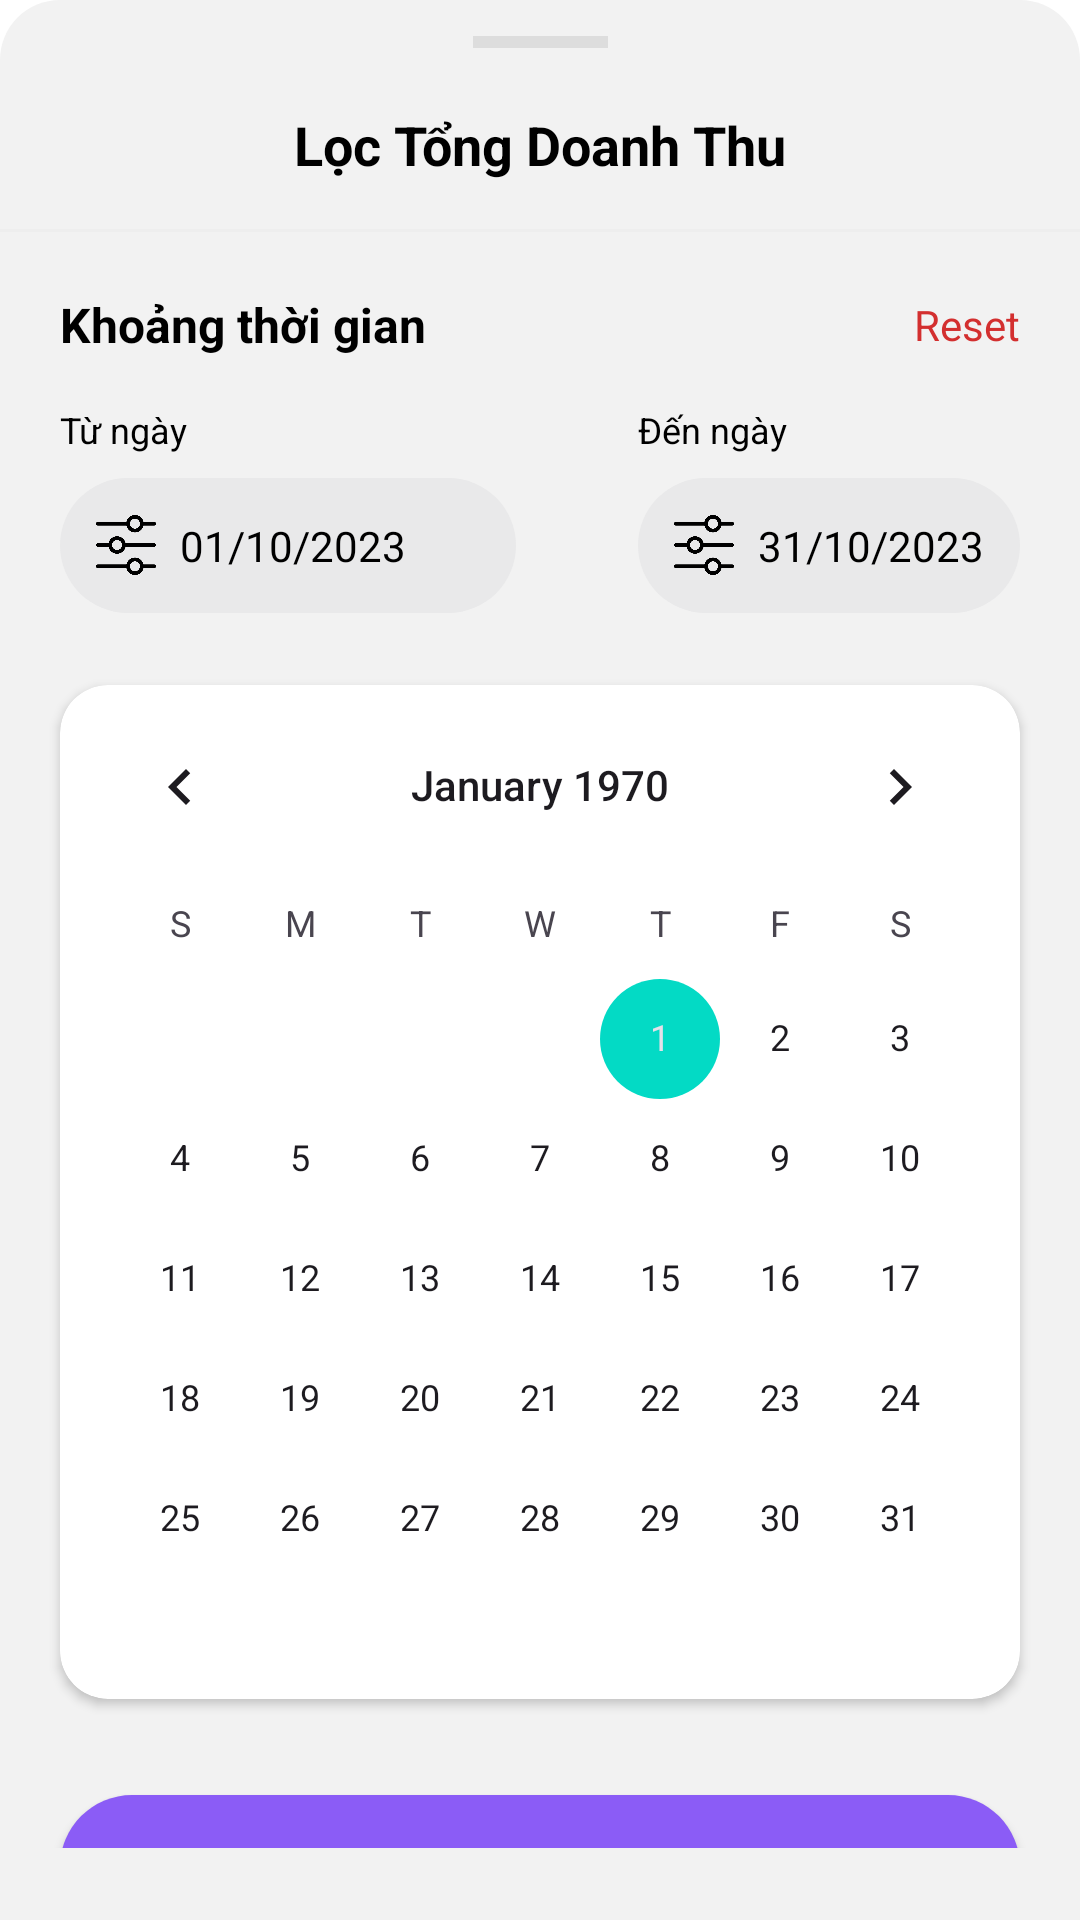

Named icons in this screenshot (1080px×1920px) and their centers, point (x, y):
bo loc: point (126, 545), point (704, 545)
